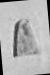N29: (2, 0, 49, 74)
